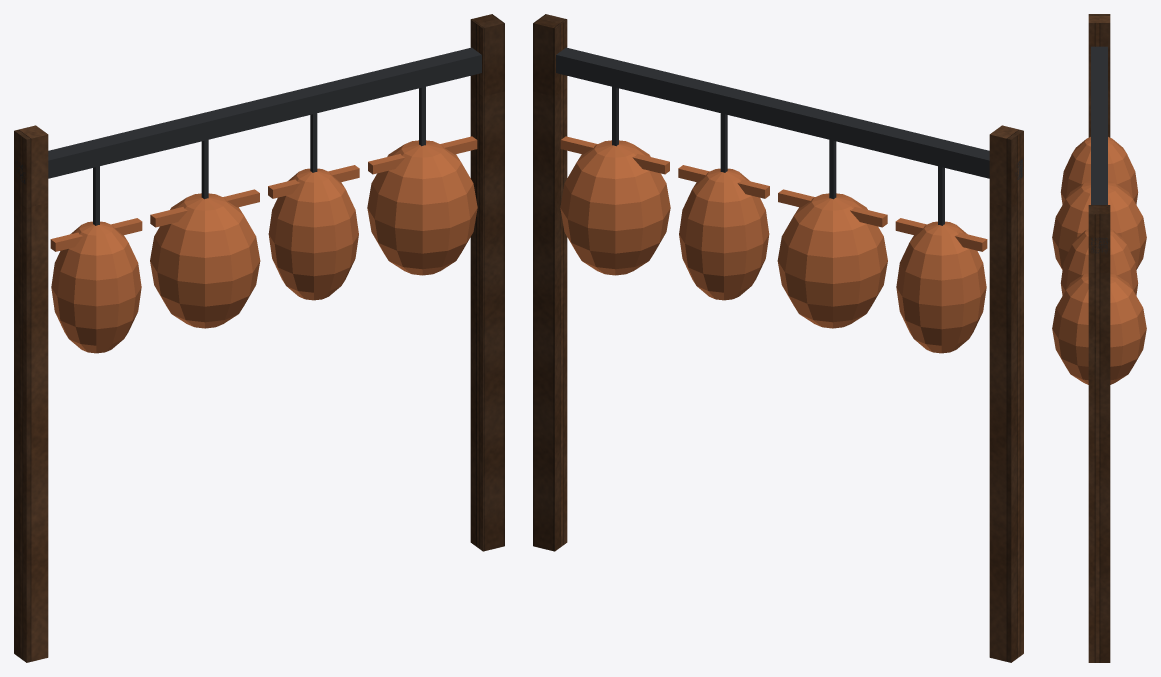
Rendered from PotRack.fbx.
3 renders of one model, left to right at view 1: azimuth 30°, elevation 25°; view 2: azimuth 150°, elevation 25°; view 3: azimuth 270°, elevation 25°, orthographic. The views are drawn at different scales.
Parts seen in each view (by area): view 1: PotRack; view 2: PotRack; view 3: PotRack.
Boxes of the visible parts, bbox=[...] form: PotRack: bbox=[14, 14, 504, 662]; PotRack: bbox=[533, 14, 1023, 662]; PotRack: bbox=[1052, 14, 1146, 662].
Bounding box in the file's own units: 2.2 × 2.3 × 0.44.
